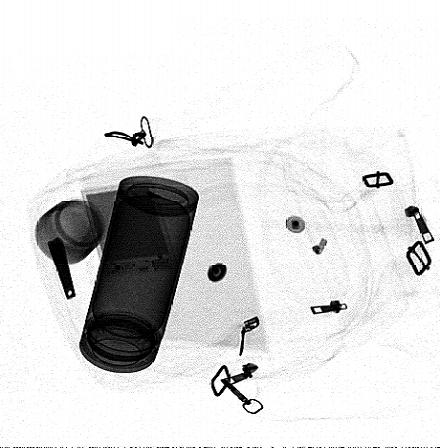Powerbank: (79, 179, 179, 280)
